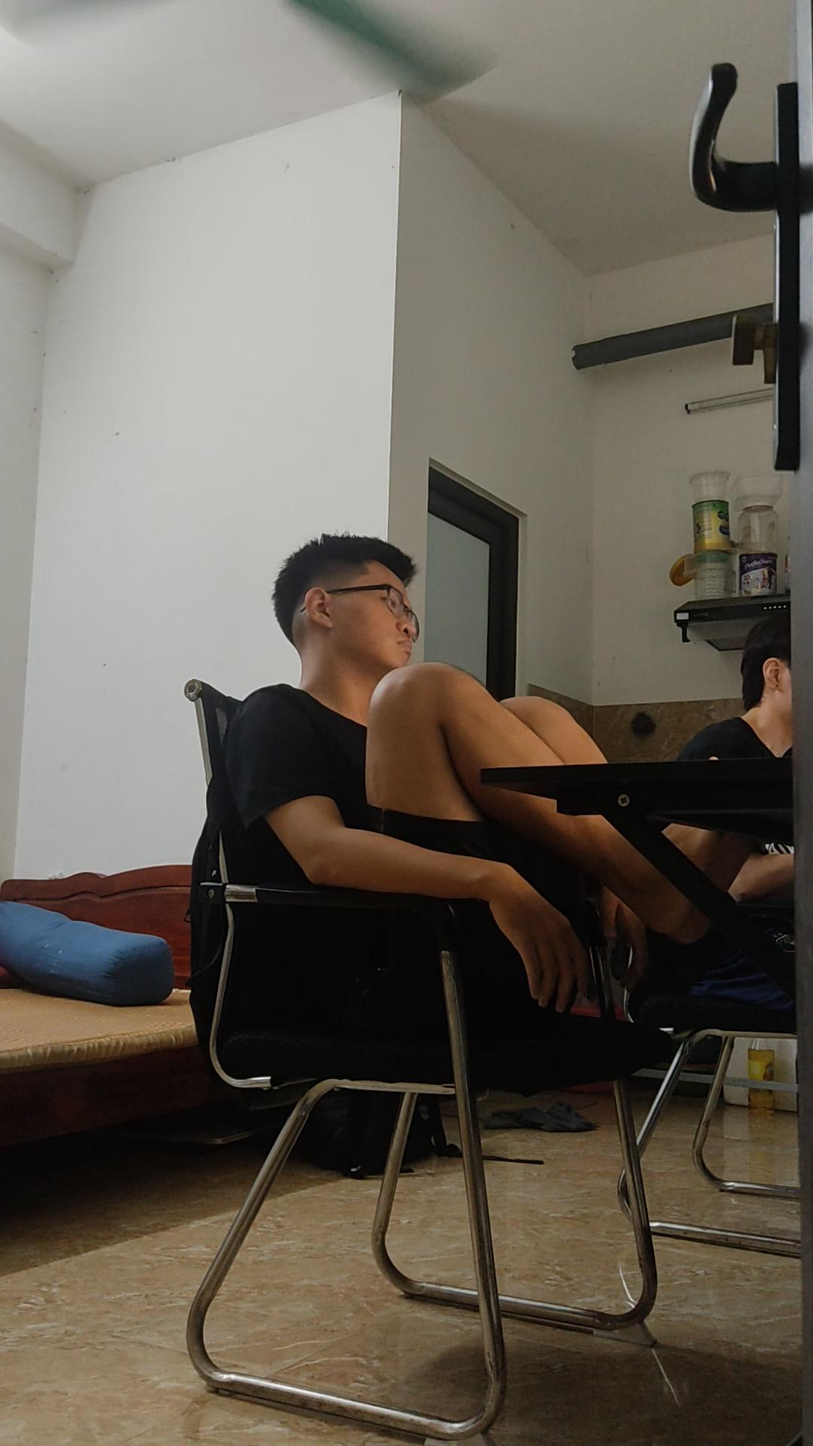BadPosture: (379, 664, 751, 991)
